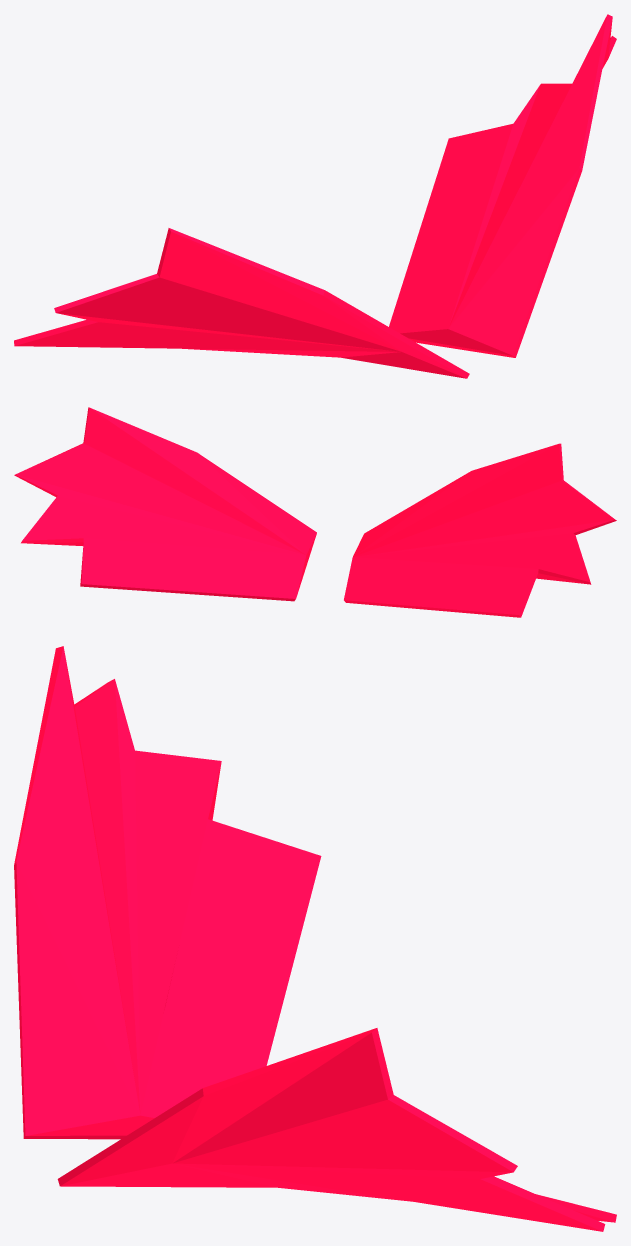
File: RedDepth_Wings_v2.fbx
3 renders of one model, top to bottom at view 1: azimuth 30°, elevation 25°; view 2: azimuth 150°, elevation 25°; view 3: azimuth 270°, elevation 25°, orthographic. The views are drawn at different scales.
Parts seen in each view (by area): view 1: RD_Wings; view 2: RD_Wings; view 3: RD_Wings.
Part boxes in pixels (x1,y1,x2,y2): RD_Wings: (14,14,616,378); RD_Wings: (14,407,616,617); RD_Wings: (14,646,616,1231).
Bounding box in the file's own units: 704 × 227 × 368.
